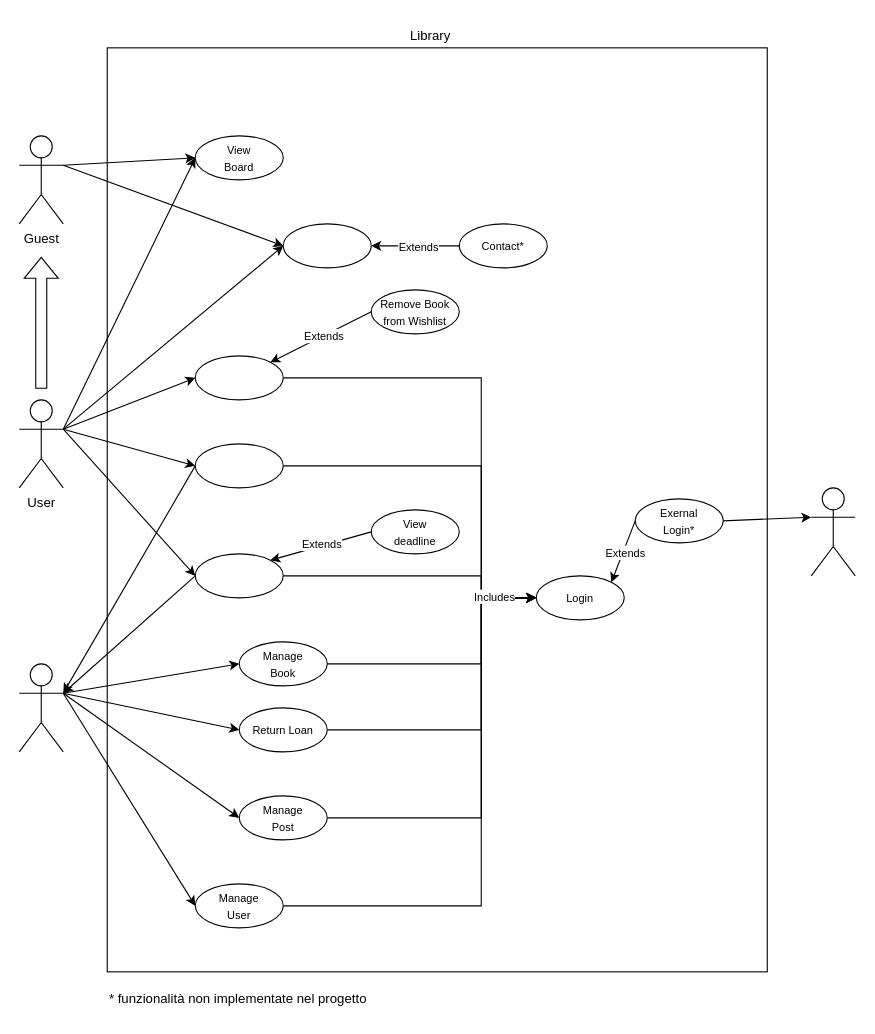
Some shapes in this 875 by 1034 pixel diagram are drawn without their labels. Each missing label, with the centre of its shape:
"Add Book to Wishlist" goes at pixel 238 377.
"Admin" goes at pixel 40 707.
"Buy Book" goes at pixel 238 465.
"Google API" goes at pixel 832 531.
"Loan Book" goes at pixel 238 575.
"View System info" goes at pixel 326 245.
